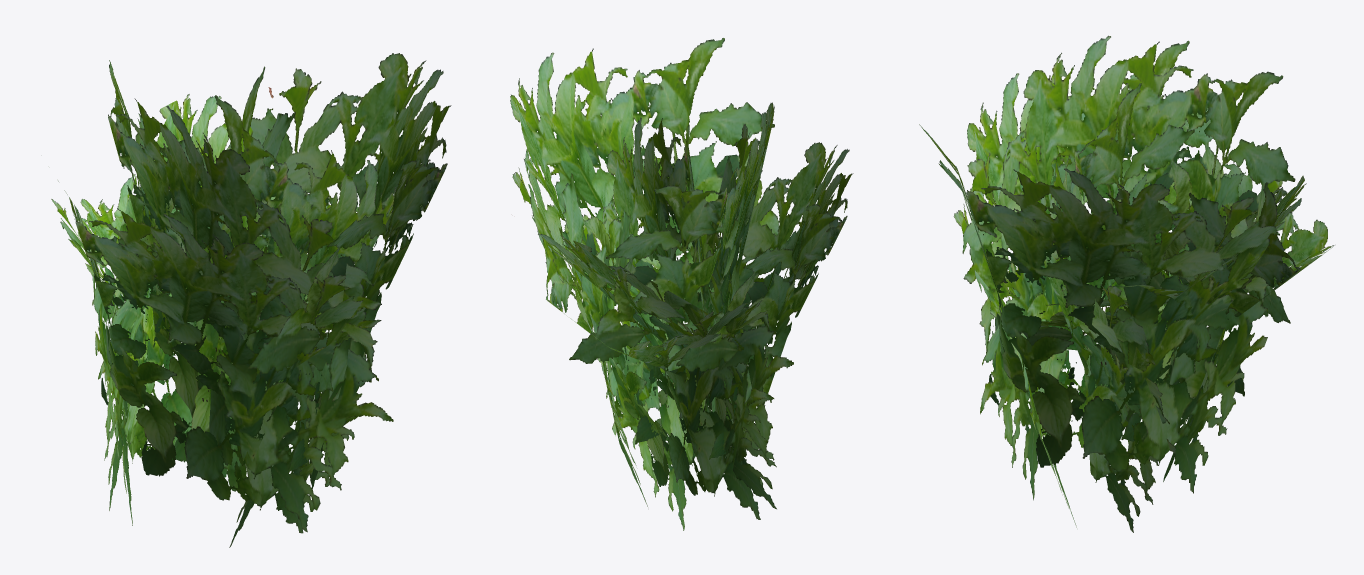
The model's file is plant.dae.
The picture shows the model from 3 angles, left to right: view 1: azimuth 30°, elevation 25°; view 2: azimuth 150°, elevation 25°; view 3: azimuth 270°, elevation 25°; orthographic projection. The views are drawn at different scales.
Parts seen in each view (by area): view 1: Plant_2; view 2: Plant_2; view 3: Plant_2.
Boxes of the visible parts, x1,y1,x2,y2 form: Plant_2: [51, 53, 451, 547]; Plant_2: [510, 38, 853, 530]; Plant_2: [919, 35, 1334, 532].
Size of the model in its own units: 50.92 by 53.01 by 63.84.
